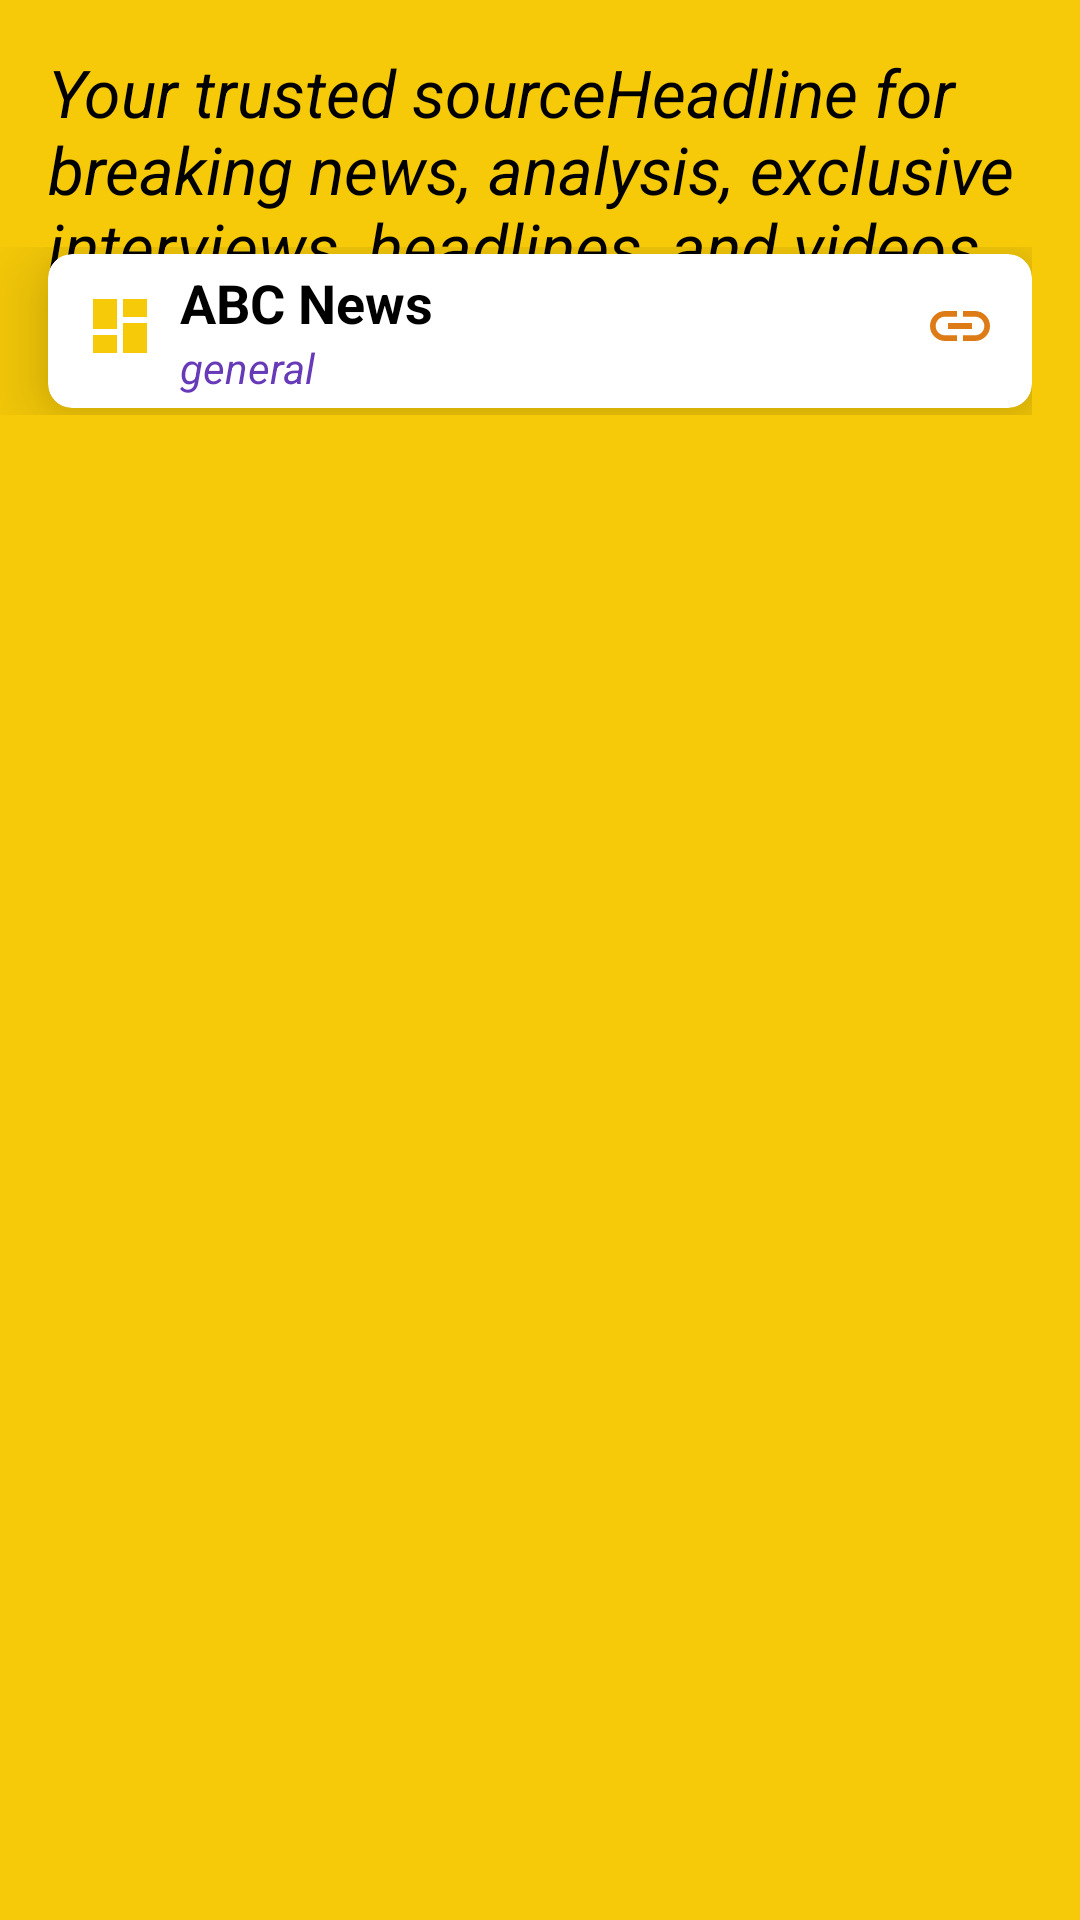

Screen size 1080×1920. Icon name, then its center in pixels as point (x, y):
link: point (960, 326)
